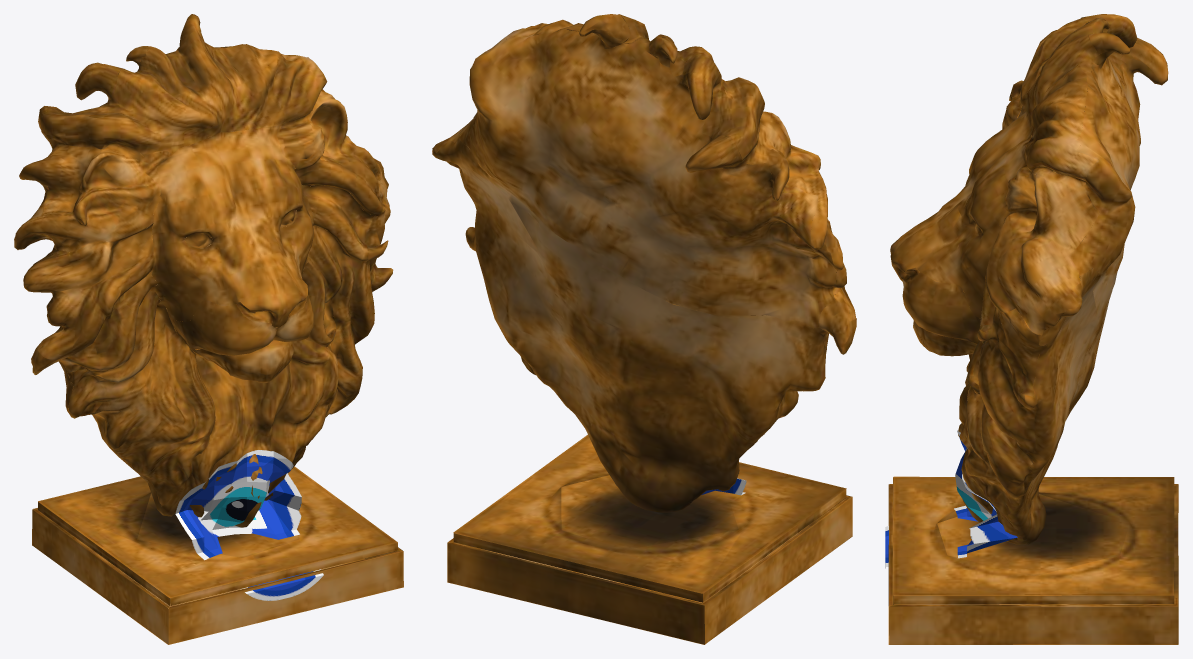
File: nyb_nys_lion.glb
3 views of the same model, side by side, from view 1: azimuth 30°, elevation 25°; view 2: azimuth 150°, elevation 25°; view 3: azimuth 270°, elevation 25° (orthographic). The views are drawn at different scales.
Parts seen in each view (by area): view 1: lion_head, stk_nazar_die.png; view 2: lion_head; view 3: lion_head, stk_nazar_die.png.
Boxes of the visible parts, x1,y1,x2,y2 form: lion_head: [14, 14, 403, 644]; stk_nazar_die.png: [175, 450, 323, 600]; lion_head: [432, 14, 856, 644]; lion_head: [888, 14, 1178, 644]; stk_nazar_die.png: [885, 430, 1017, 568].
Bounding box in the file's own units: 0.3209 × 0.4361 × 0.2091.
Materials: 2 (2 with a texture image).
